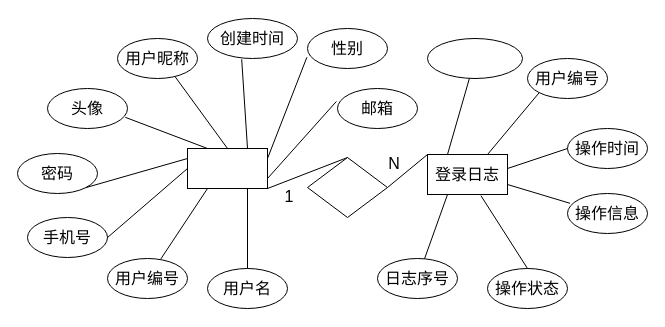
Image size: 665x327. Some labels were removed from this diagram. Here are the shapes that lost their labels. From the top down, the box of each, then its label:
(426, 38, 522, 78): 登录用户名
(186, 148, 268, 188): 用户
(306, 156, 388, 218): 关联
